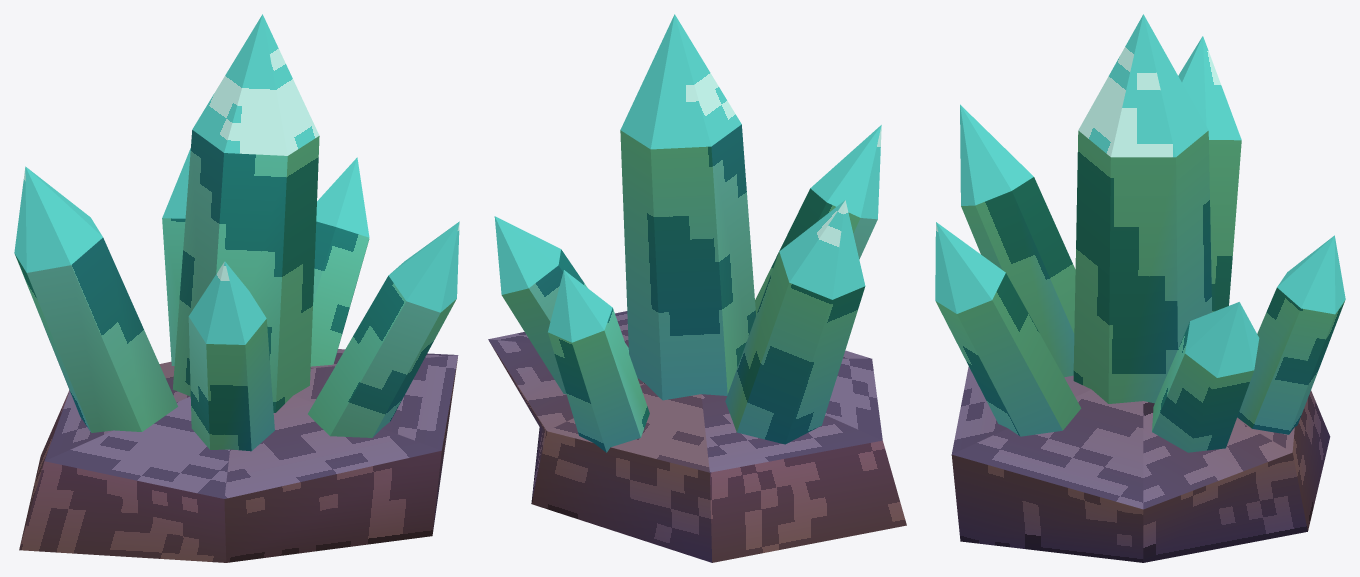
Rendered from alien.crystal.glb.
3 renders of one model, left to right at view 1: azimuth 30°, elevation 25°; view 2: azimuth 150°, elevation 25°; view 3: azimuth 270°, elevation 25°, orthographic. The views are drawn at different scales.
Parts seen in each view (by area): view 1: kit_foot, kit_crystal_0, kit_crystal_3, kit_crystal_5, kit_crystal_4, kit_crystal_1, kit_crystal_2; view 2: kit_foot, kit_crystal_0, kit_crystal_3, kit_crystal_2, kit_crystal_1, kit_crystal_4; view 3: kit_foot, kit_crystal_0, kit_crystal_5, kit_crystal_4, kit_crystal_2, kit_crystal_1, kit_crystal_3.
Boxes of the visible parts, x1,y1,x2,y2 form: kit_foot: (19, 349, 458, 562); kit_crystal_0: (172, 14, 319, 412); kit_crystal_3: (14, 166, 177, 432); kit_crystal_5: (308, 221, 459, 437); kit_crystal_4: (188, 261, 274, 451); kit_crystal_1: (310, 157, 369, 366); kit_crystal_2: (162, 148, 190, 365); kit_foot: (488, 311, 906, 562); kit_crystal_0: (620, 14, 755, 400); kit_crystal_3: (725, 200, 865, 444); kit_crystal_2: (548, 270, 649, 452); kit_crystal_1: (494, 216, 628, 394); kit_crystal_4: (755, 125, 881, 315); kit_foot: (951, 366, 1330, 562); kit_crystal_0: (1073, 14, 1211, 403); kit_crystal_5: (935, 222, 1081, 436); kit_crystal_4: (960, 104, 1075, 377); kit_crystal_2: (1237, 235, 1345, 434); kit_crystal_1: (1152, 302, 1259, 452); kit_crystal_3: (1178, 36, 1241, 312).
Size of the model in its own units: 1.76 by 1.82 by 1.39.
3 materials, 3 textured.
